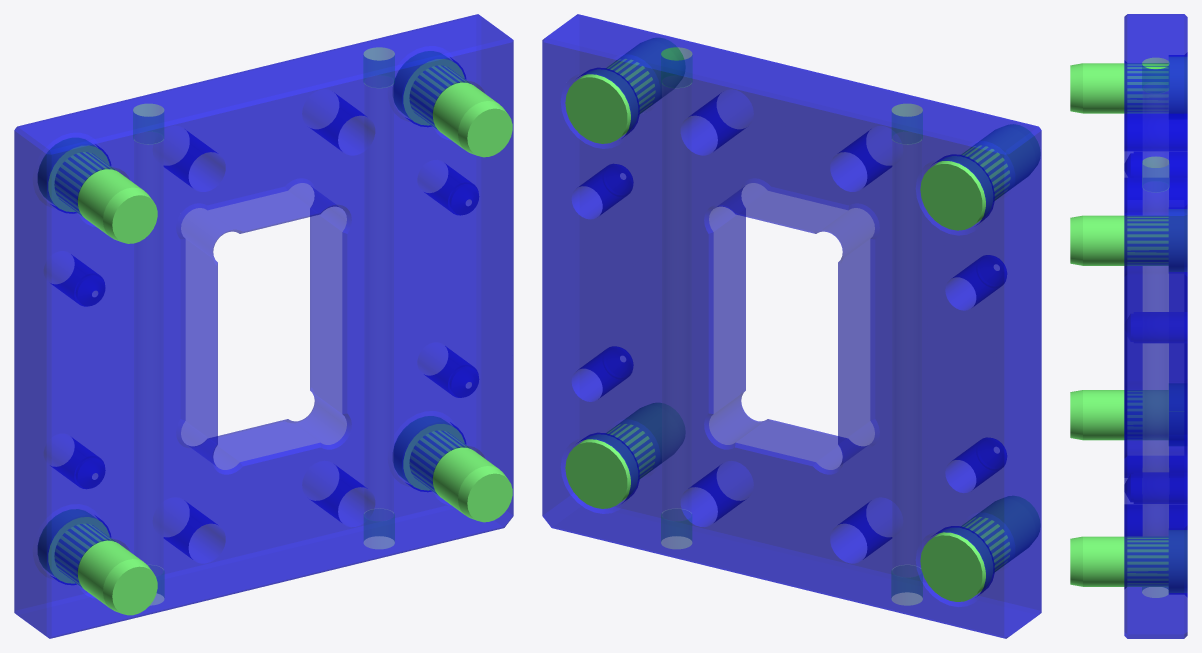
The model's file is b_plate.glb.
The picture shows the model from 3 angles, left to right: view 1: azimuth 30°, elevation 25°; view 2: azimuth 150°, elevation 25°; view 3: azimuth 270°, elevation 25°; orthographic projection. The views are drawn at different scales.
Visible parts, largest first — view 1: Button_b_plate_041, Button_fm_gpa_046 (×4); view 2: Button_b_plate_041, Button_fm_gpa_046 (×4); view 3: Button_b_plate_041, Button_fm_gpa_046 (×4).
Boxes of the visible parts, x1,y1,x2,y2 form: Button_b_plate_041: [14, 14, 513, 638]; Button_fm_gpa_046 (×4): [38, 51, 512, 615]; Button_b_plate_041: [542, 14, 1041, 638]; Button_fm_gpa_046 (×4): [565, 38, 1040, 601]; Button_b_plate_041: [1124, 14, 1187, 638]; Button_fm_gpa_046 (×4): [1070, 57, 1187, 592].
Size of the model in its own units: 0.15 by 0.15 by 0.037.
